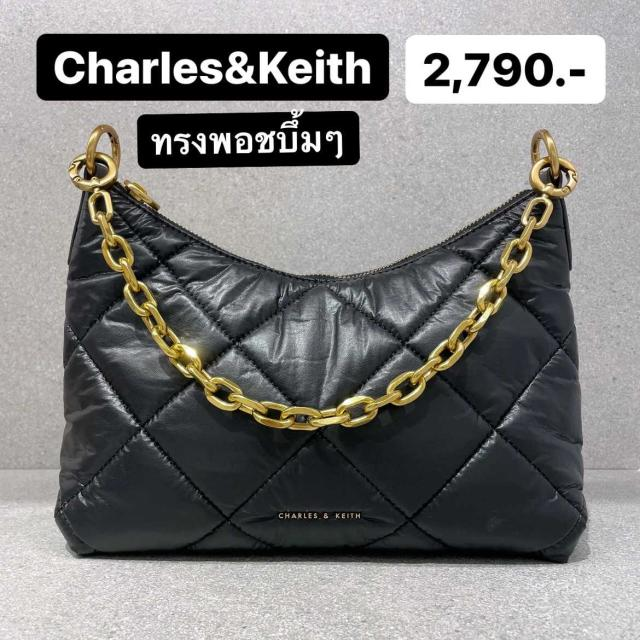Handbag: (51, 127, 586, 563)
